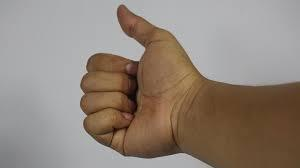rock: (78, 0, 200, 163)
